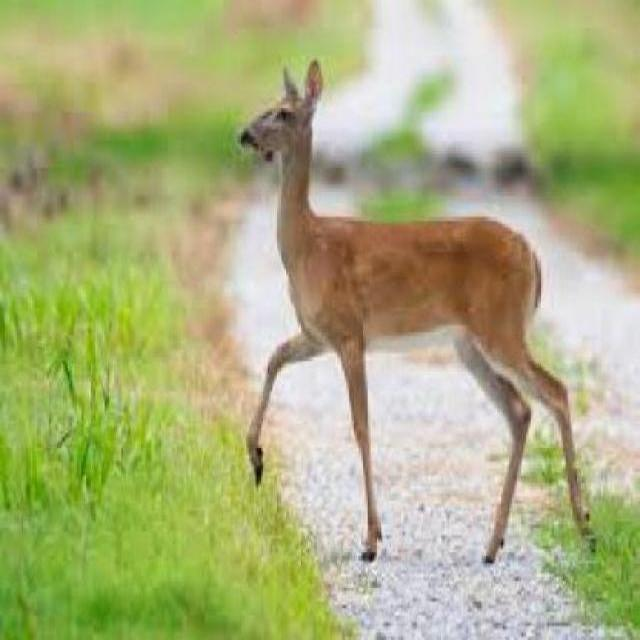deer: (218, 62, 602, 573)
